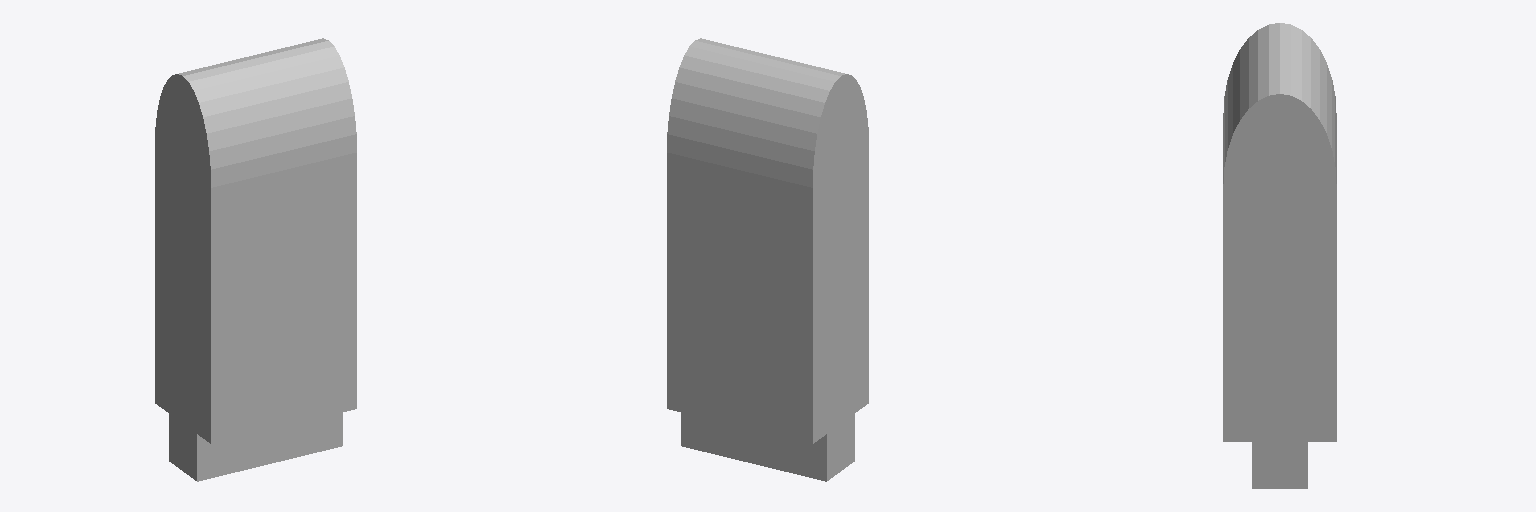
File: body_l_dist_pin2vround2.obj
3 renders of one model, left to right at view 1: azimuth 30°, elevation 25°; view 2: azimuth 150°, elevation 25°; view 3: azimuth 270°, elevation 25°, orthographic.
Parts seen in each view (by area): view 1: body_l_dist_pin2vround2_Cube.580; view 2: body_l_dist_pin2vround2_Cube.580; view 3: body_l_dist_pin2vround2_Cube.580.
Part boxes in pixels (x1,y1,x2,y2): body_l_dist_pin2vround2_Cube.580: (155,38,356,481); body_l_dist_pin2vround2_Cube.580: (667,38,868,481); body_l_dist_pin2vround2_Cube.580: (1223,23,1336,488).
Size of the model in its own units: 0.32 by 0.8289 by 0.215.